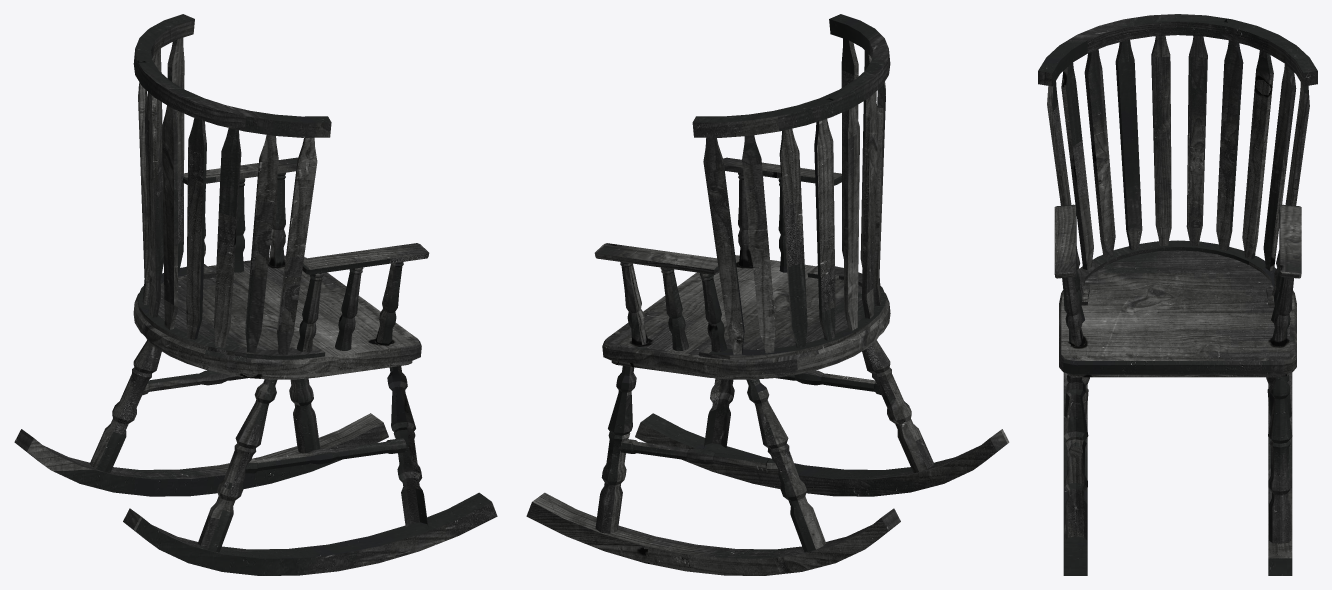
Rendered from naprednazad_stolac.fbx.
3 renders of one model, left to right at view 1: azimuth 30°, elevation 25°; view 2: azimuth 150°, elevation 25°; view 3: azimuth 270°, elevation 25°, orthographic. The views are drawn at different scales.
Visible parts, largest first — view 1: rockingChair; view 2: rockingChair; view 3: rockingChair.
Part boxes in pixels (x1,y1,x2,y2): rockingChair: (14, 14, 497, 575); rockingChair: (526, 14, 1009, 575); rockingChair: (1038, 14, 1317, 575).
Bounding box in the file's own units: 140 × 197 × 247.
Materials: 1 (1 with a texture image).
